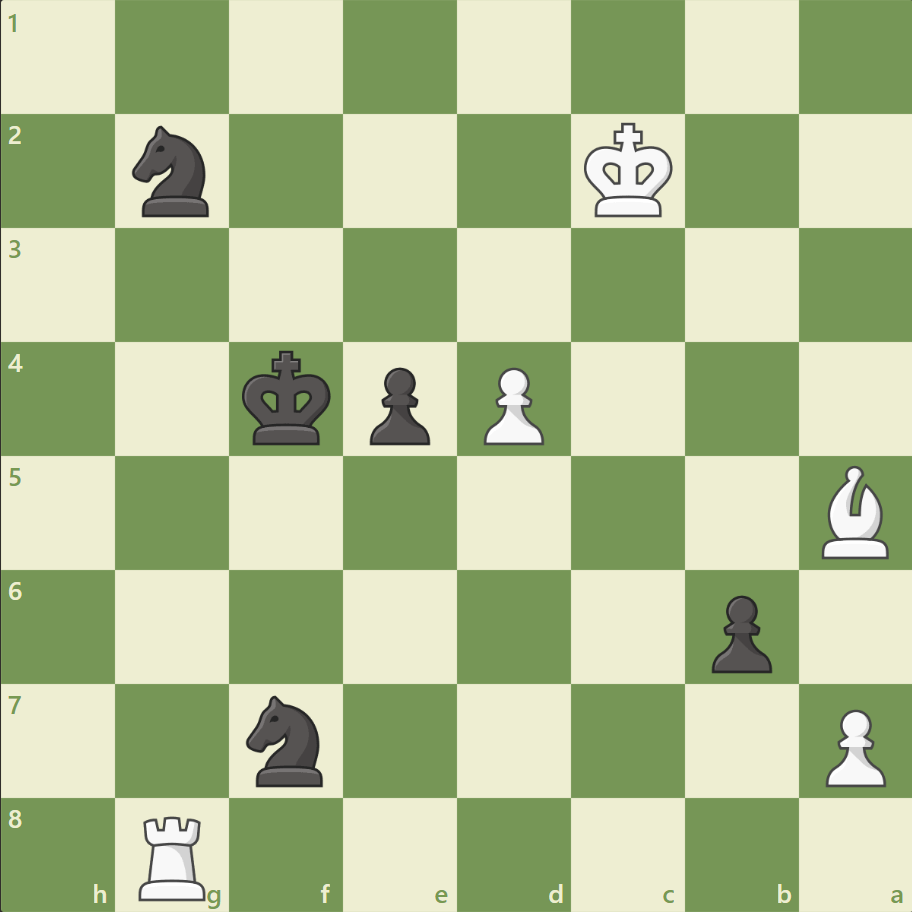B: (812, 460, 896, 563)
K: (579, 117, 679, 225)
P: (474, 359, 549, 450), (815, 700, 889, 791)
R: (133, 806, 215, 904)
k: (238, 344, 338, 452)
n: (124, 121, 222, 223), (238, 688, 335, 791)
p: (701, 586, 776, 677), (361, 359, 435, 450)
